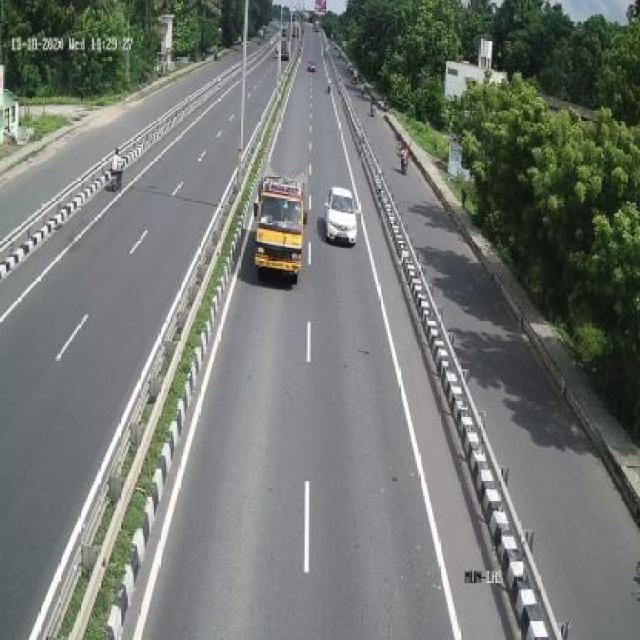car: (326, 182, 359, 249)
